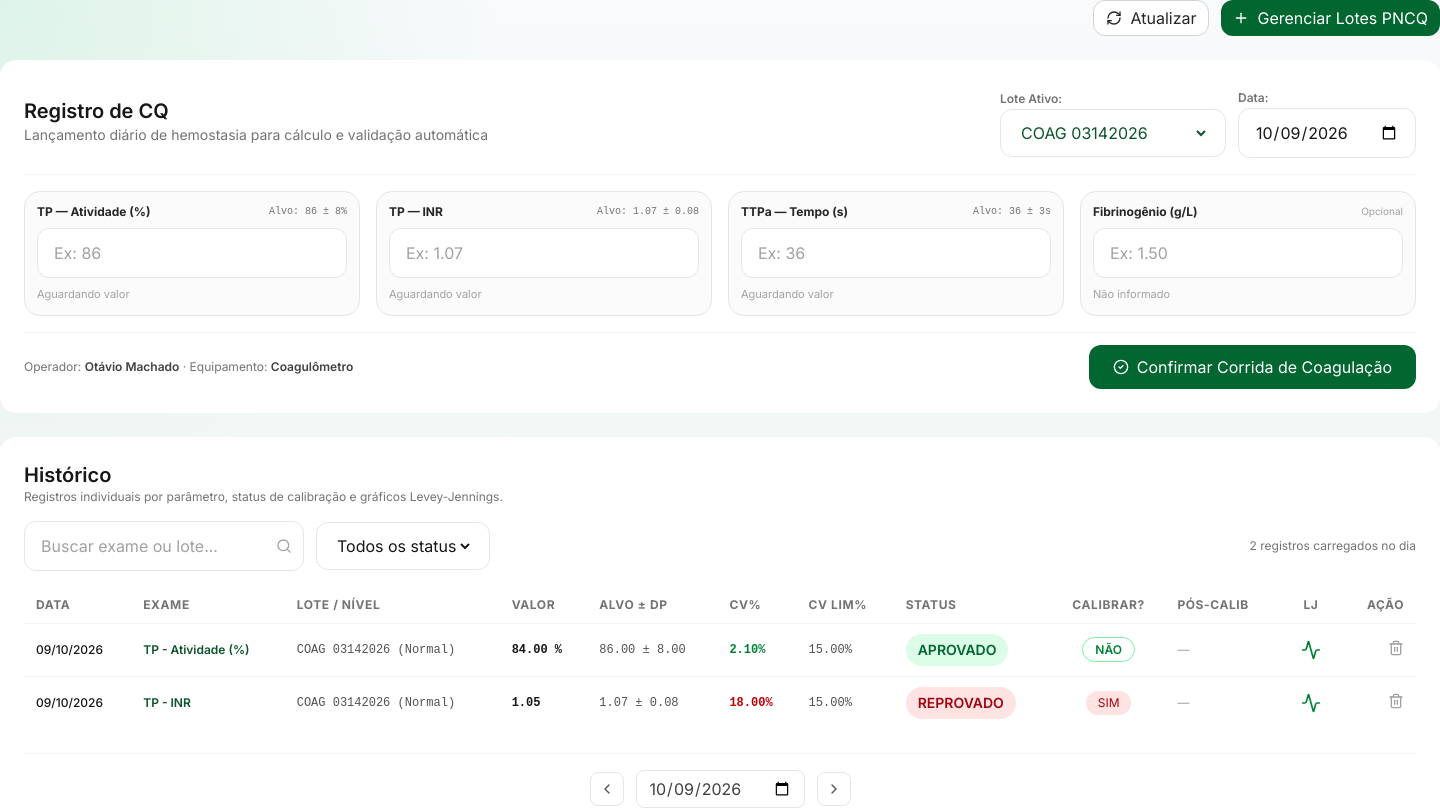
CoagulacaoArea › permite abrir o modal de Levey-Jennings ao clicar no botão de gráfico LJ
The image size is (1440, 810).
Click the button titled "Ver gráfico Levey-Jennings" at (1311, 650), box [1295,634,1327,666]
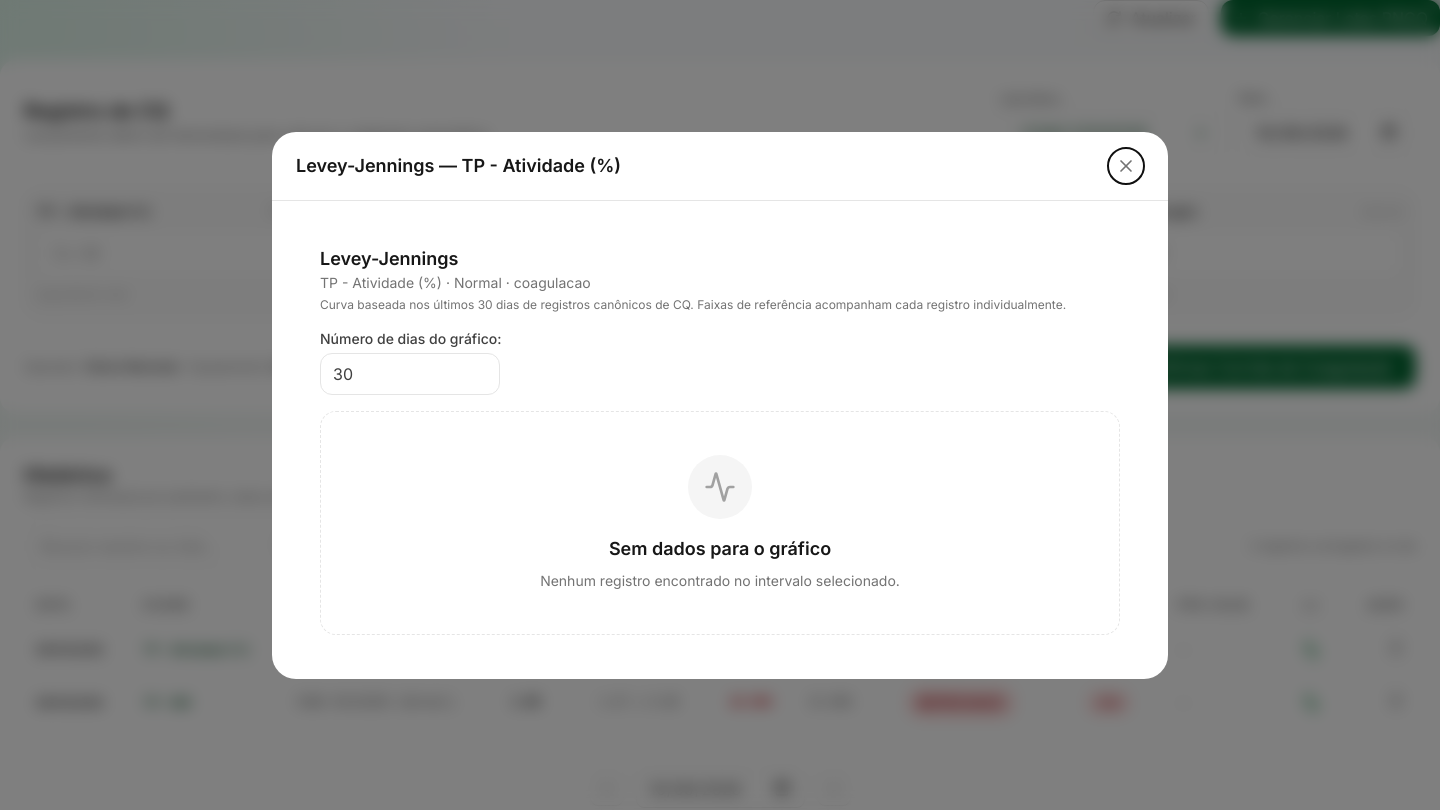
Expected: the heading "Levey-Jennings — TP - Atividade (%)" is shown, [296,152,621,180]
